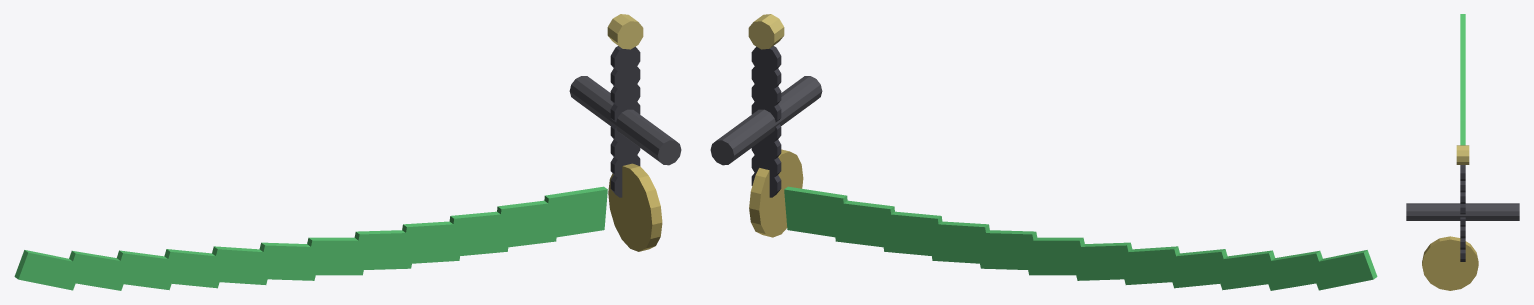
The model's file is zehir_katana.glb.
3 views of the same model, side by side, from view 1: azimuth 30°, elevation 25°; view 2: azimuth 150°, elevation 25°; view 3: azimuth 270°, elevation 25° (orthographic). The views are drawn at different scales.
Visible parts, largest first — view 1: geometry_0; view 2: geometry_0; view 3: geometry_0.
Boxes of the visible parts, x1=… form: geometry_0: x1=14, y1=14, x2=681, y2=290; geometry_0: x1=710, y1=14, x2=1377, y2=290; geometry_0: x1=1406, y1=14, x2=1519, y2=290.
Size of the model in its own units: 0.7333 by 0.251 by 0.18.
